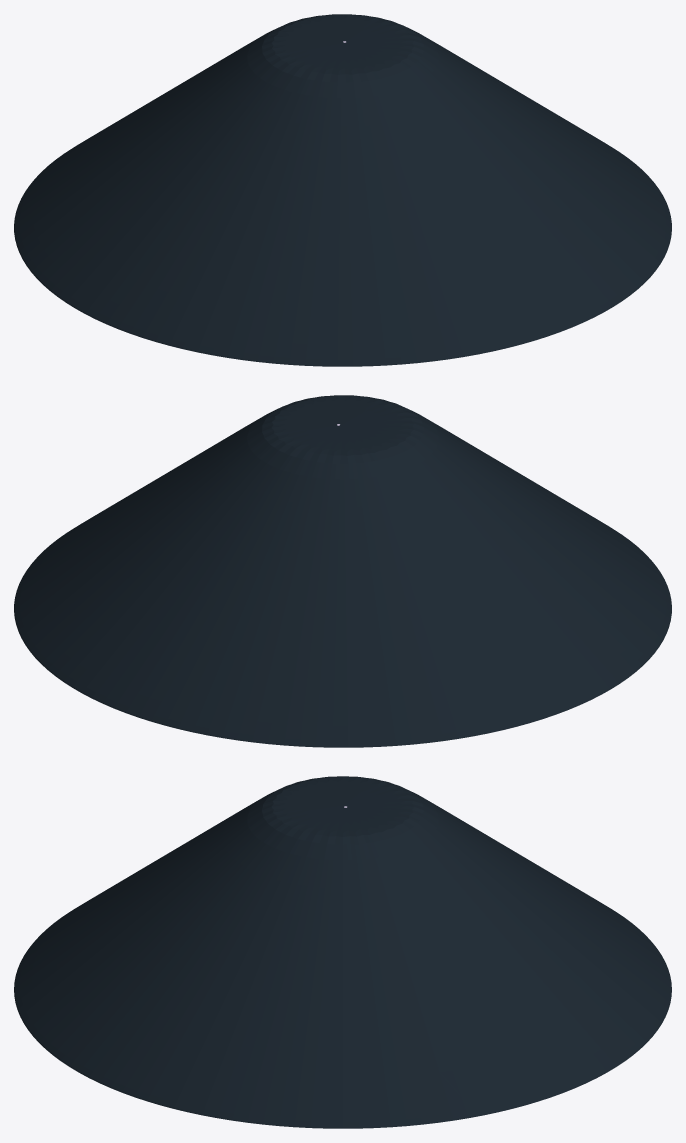
The model's file is Lampu.fbx.
3 views of the same model, one above another, from view 1: azimuth 30°, elevation 25°; view 2: azimuth 150°, elevation 25°; view 3: azimuth 270°, elevation 25° (orthographic).
Visible parts, largest first — view 1: Cylinder; view 2: Cylinder; view 3: Cylinder.
Part boxes in pixels (bbox=[...]): Cylinder: bbox=[14, 14, 671, 366]; Cylinder: bbox=[14, 395, 671, 747]; Cylinder: bbox=[14, 776, 671, 1128].
Bounding box in the file's own units: 62.79 × 26.38 × 62.79.
